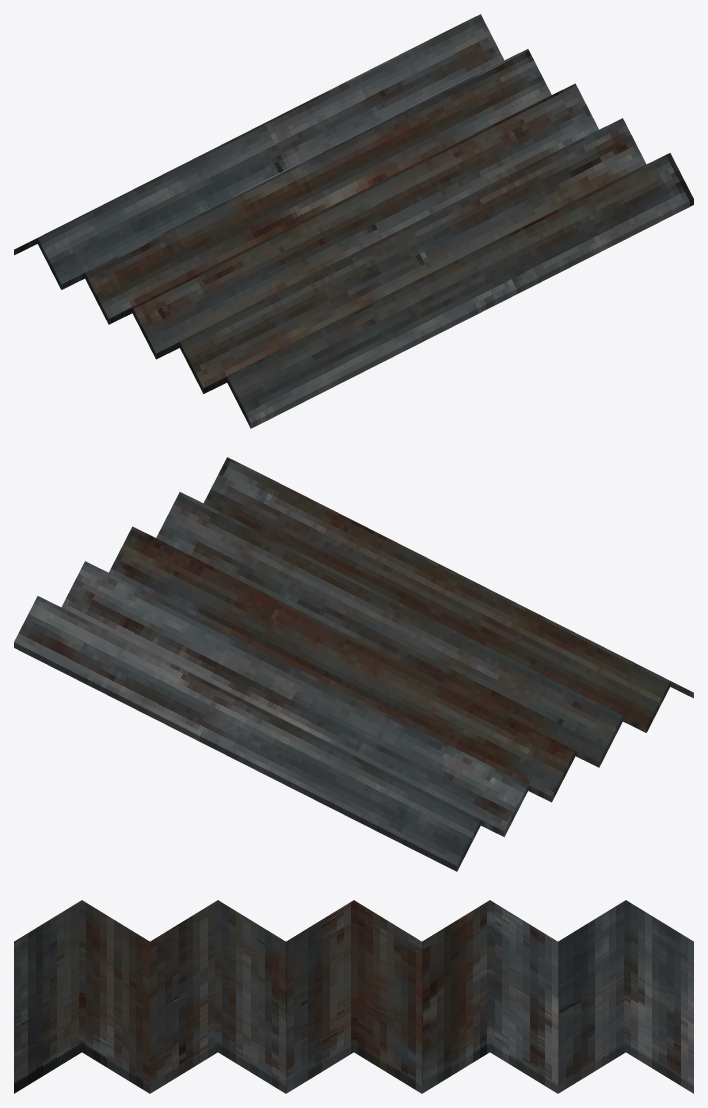
The model's file is roof_hr_3_side_2_angle_corner_1.glb.
The picture shows the model from 3 angles, top to bottom: view 1: azimuth 30°, elevation 25°; view 2: azimuth 150°, elevation 25°; view 3: azimuth 270°, elevation 25°; orthographic projection. The views are drawn at different scales.
Visible parts, largest first — view 1: roof_hr_3_side_2_angle_corner_1; view 2: roof_hr_3_side_2_angle_corner_1; view 3: roof_hr_3_side_2_angle_corner_1.
Boxes of the visible parts, x1,y1,x2,y2 form: roof_hr_3_side_2_angle_corner_1: (14, 14, 693, 428); roof_hr_3_side_2_angle_corner_1: (14, 457, 693, 871); roof_hr_3_side_2_angle_corner_1: (14, 900, 693, 1093).
Bounding box in the file's own units: 0.8 × 0.26 × 0.7407.
Materials: 1 (1 with a texture image).
